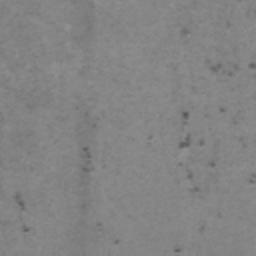Oxide scale of temperature system: (179, 135, 190, 148), (16, 195, 24, 209), (182, 112, 189, 119)
